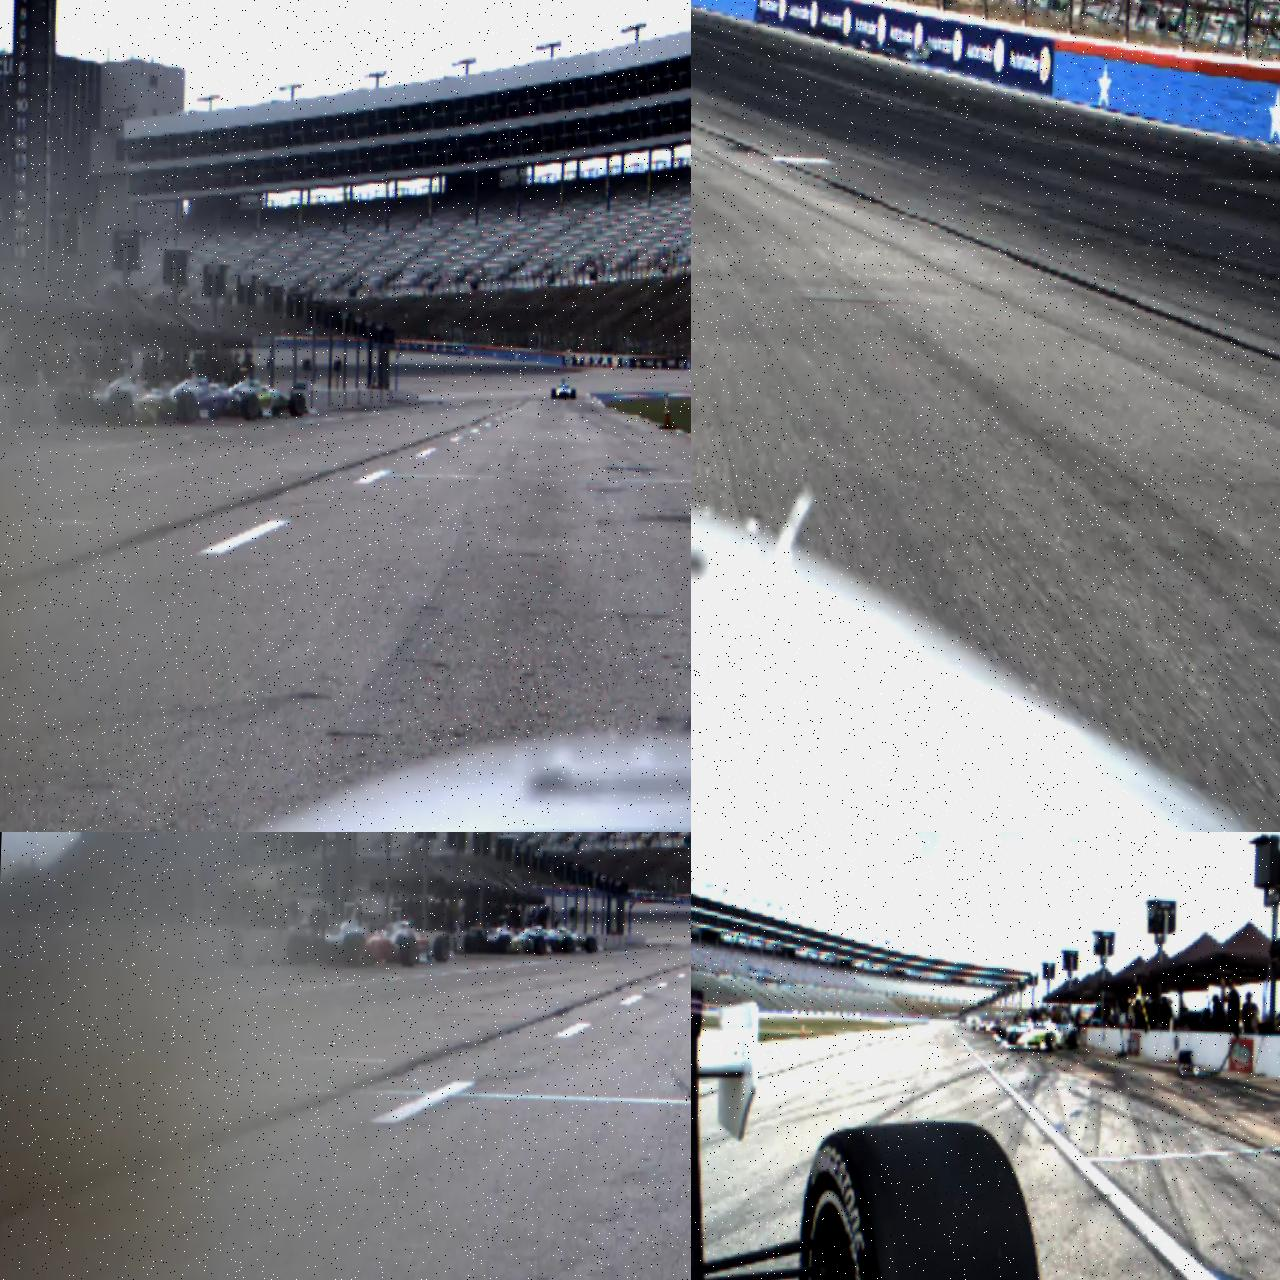AV: (55, 356, 212, 430), (1001, 1013, 1080, 1054), (551, 377, 576, 399)
Wheel: (795, 1116, 1047, 1280), (107, 390, 134, 426), (54, 392, 80, 424), (286, 934, 310, 964), (177, 391, 198, 424), (344, 936, 364, 964), (241, 392, 260, 421), (399, 936, 417, 966), (433, 934, 450, 961), (288, 392, 306, 417), (496, 934, 510, 954), (584, 936, 596, 953), (562, 936, 574, 953), (1045, 1032, 1055, 1052), (1067, 1030, 1078, 1048), (534, 938, 546, 954), (1008, 1031, 1016, 1051), (551, 387, 556, 398), (571, 388, 575, 398)
